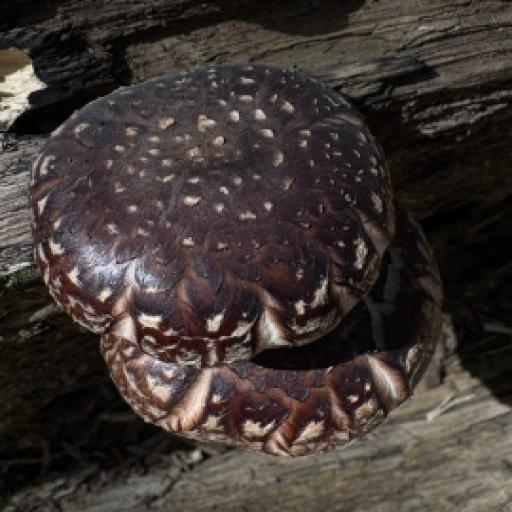Shiitake Mushroom: (2, 0, 476, 512)
